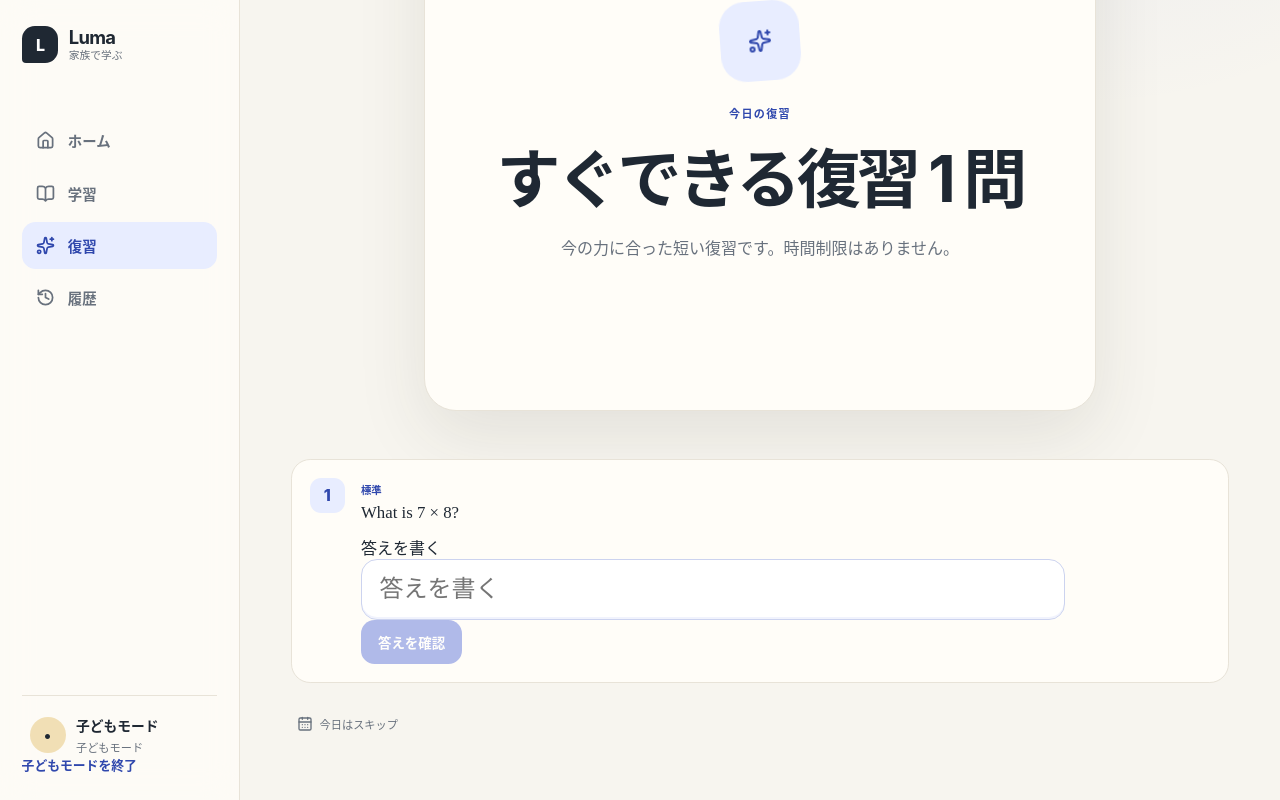
ChildReviewPage › postpones every visible review for today without changing its interval
(page scrolled)
Check: the heading "What is 7 × 8?" is shown, box [361,503,459,522]
Click the button "今日はスキップ": (348, 724) [291,714,404,732]
(page scrolled)
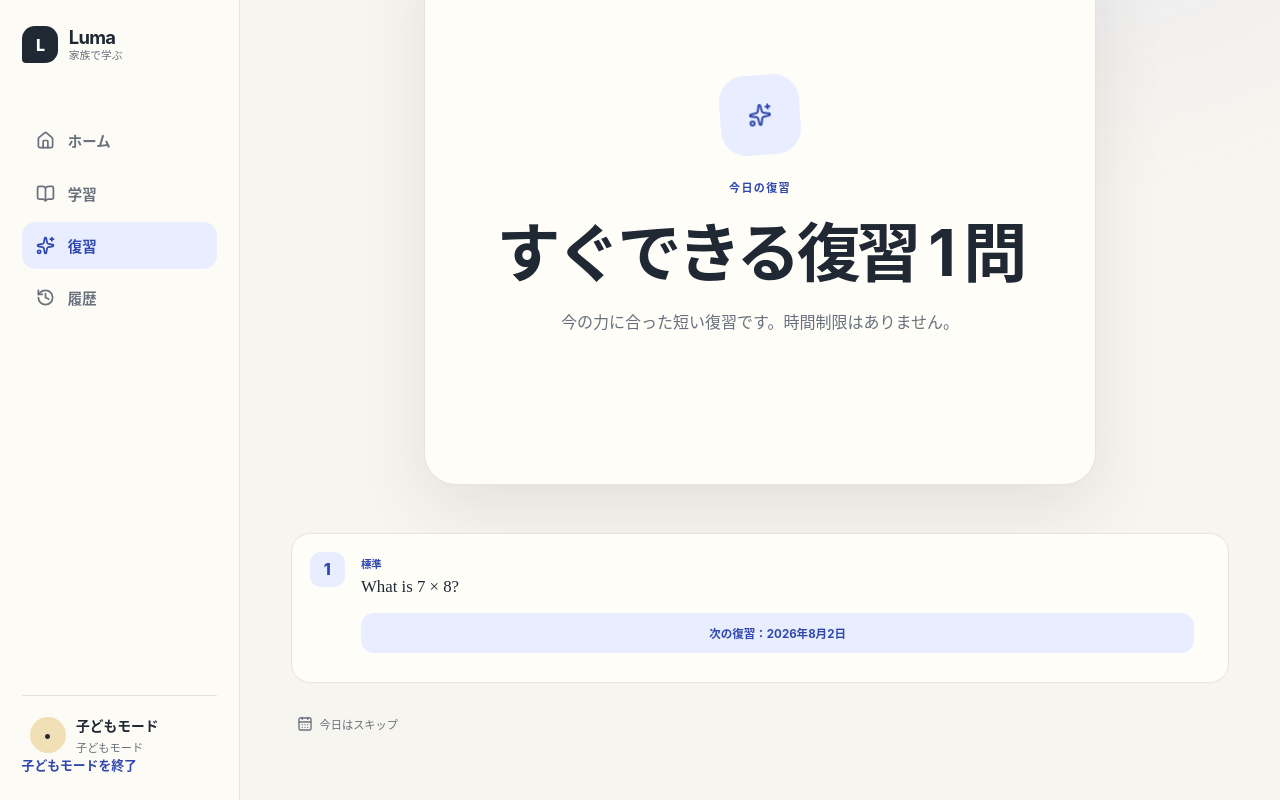
Check: the text "次の復習" is shown, box [709,627,846,641]
